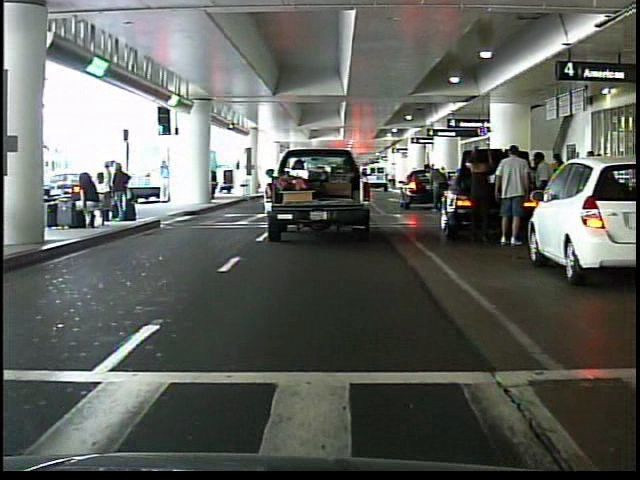person: (460, 140, 497, 249), (493, 141, 530, 247), (528, 144, 554, 249), (423, 158, 449, 215), (158, 158, 174, 203)
